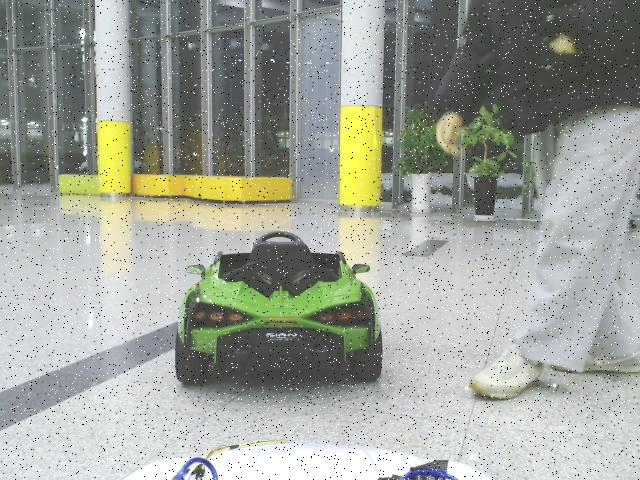car: (175, 231, 384, 386)
